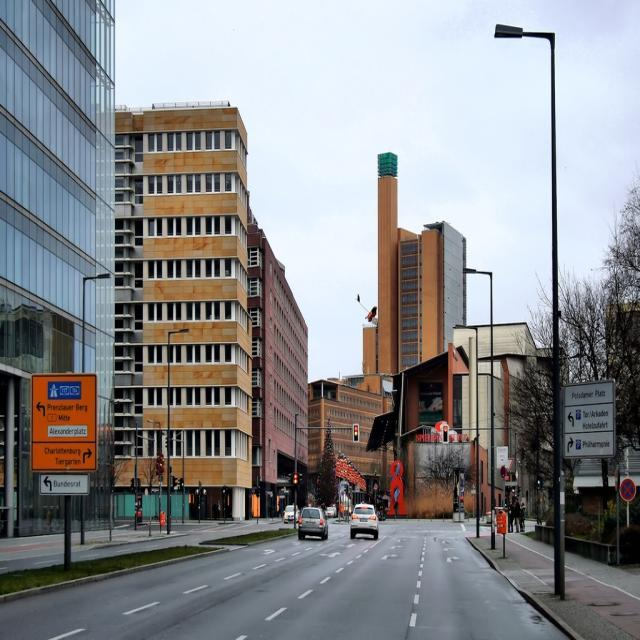traffic light: (353, 424, 359, 442), (443, 425, 448, 442)
